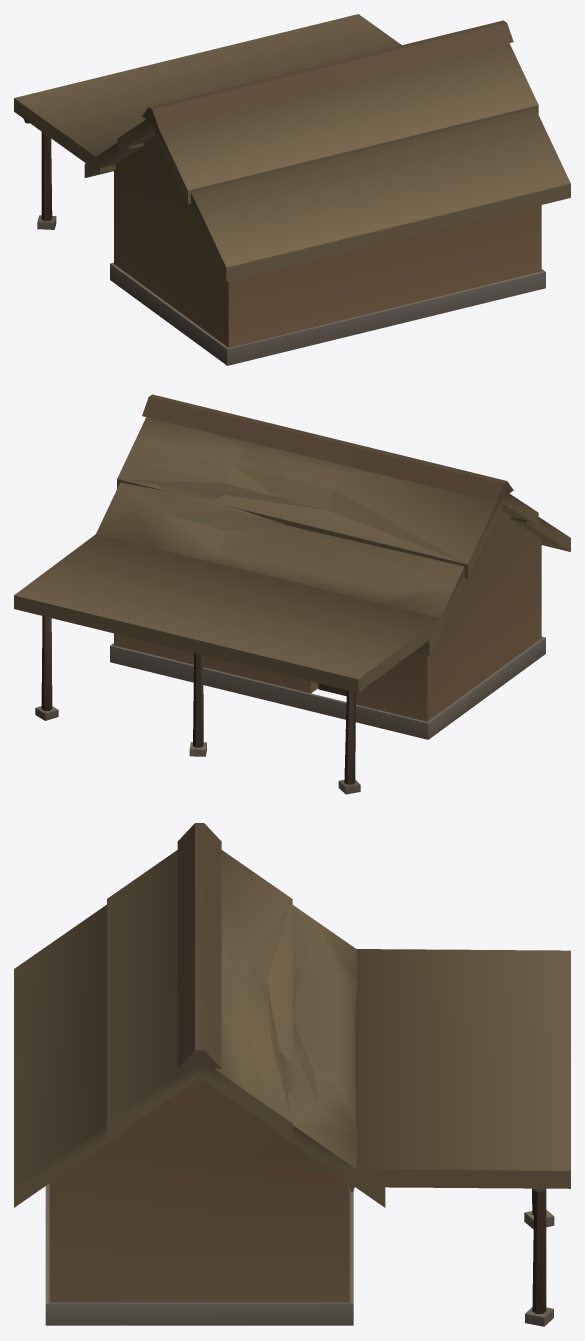
File: casa_rancho_b_lod.glb
3 renders of one model, top to bottom at view 1: azimuth 30°, elevation 25°; view 2: azimuth 150°, elevation 25°; view 3: azimuth 270°, elevation 25°, orthographic. The views are drawn at different scales.
Parts seen in each view (by area): view 1: casa_rancho_b; view 2: casa_rancho_b; view 3: casa_rancho_b.
Boxes of the visible parts, box(x1,y1,x2,y2) form: casa_rancho_b: box(14, 14, 570, 365); casa_rancho_b: box(14, 394, 570, 794); casa_rancho_b: box(14, 823, 570, 1326).
Size of the model in its own units: 6.8 by 4.01 by 7.05.
